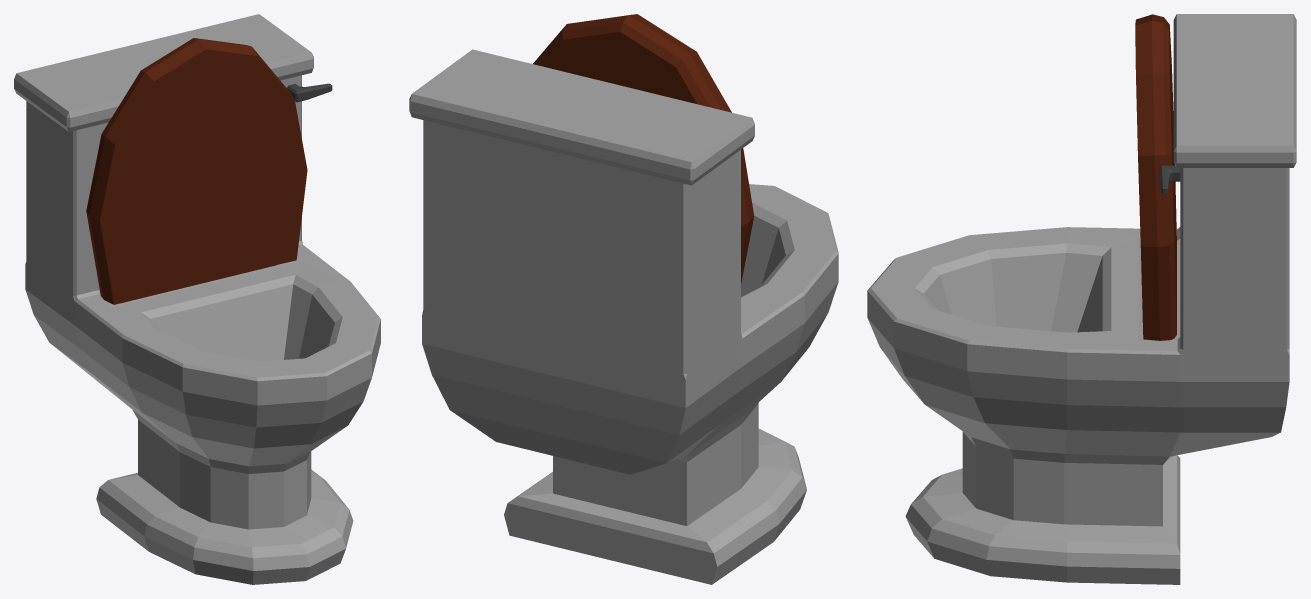
Rendered from hh_toilet.glb.
3 views of the same model, side by side, from view 1: azimuth 30°, elevation 25°; view 2: azimuth 150°, elevation 25°; view 3: azimuth 270°, elevation 25° (orthographic). The views are drawn at different scales.
Parts seen in each view (by area): view 1: Toilet; view 2: Toilet; view 3: Toilet.
Part boxes in pixels (box(x1,y1,x2,y2)): Toilet: box(14, 14, 380, 584); Toilet: box(409, 14, 838, 584); Toilet: box(867, 14, 1296, 584).
Size of the model in its own units: 0.5206 by 0.89 by 0.6722.
